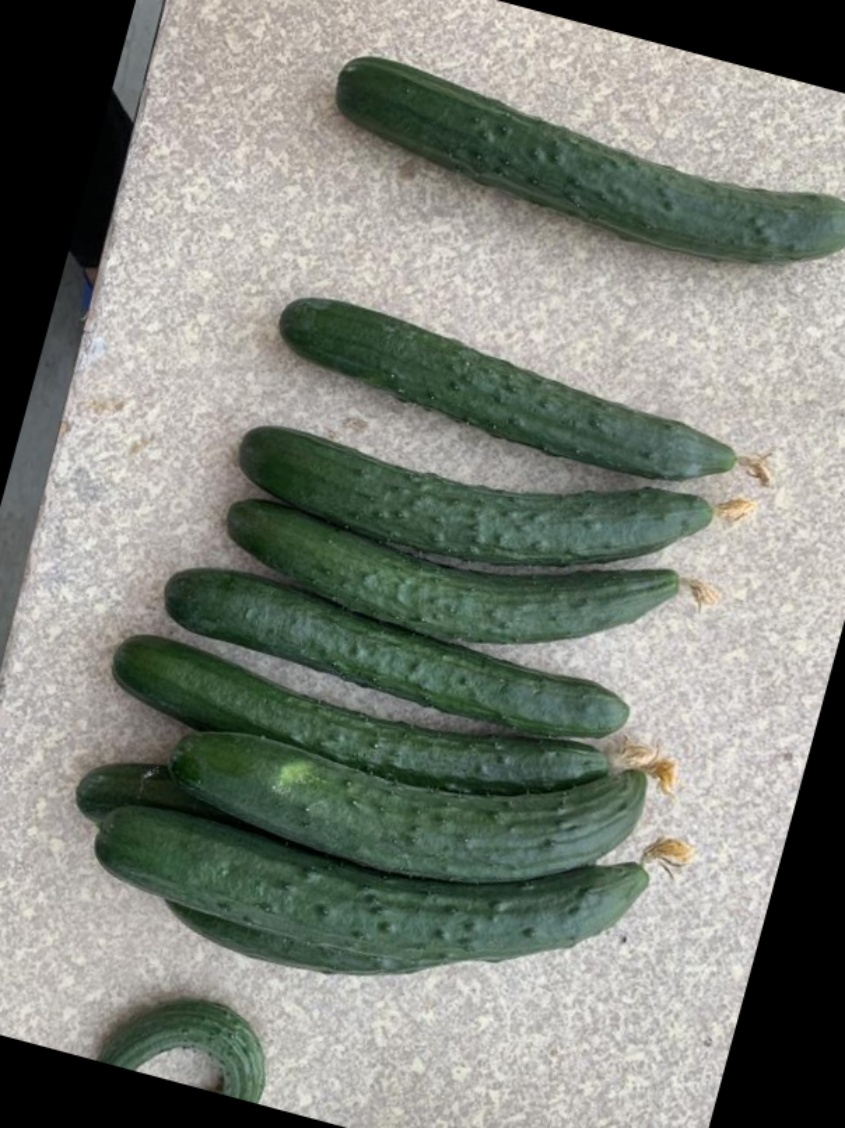mature: (101, 802, 655, 955)
